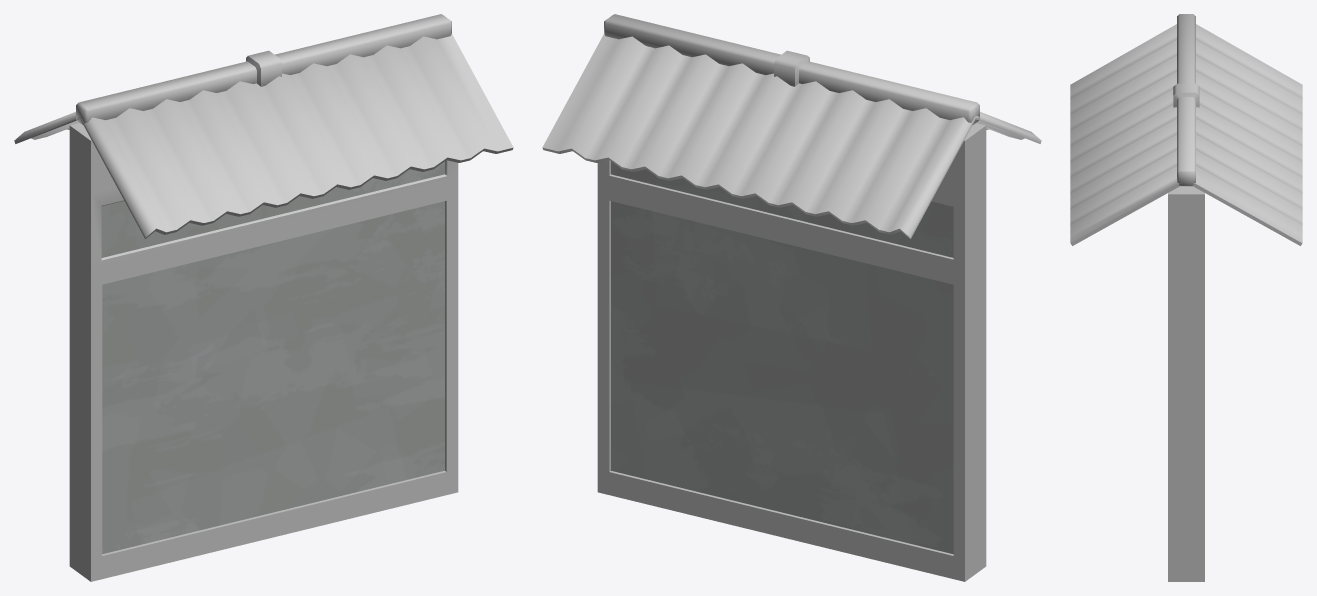
The model's file is Japan.Temple.Wall_02.fbx.
3 renders of one model, left to right at view 1: azimuth 30°, elevation 25°; view 2: azimuth 150°, elevation 25°; view 3: azimuth 270°, elevation 25°, orthographic. The views are drawn at different scales.
Visible parts, largest first — view 1: Japan.Temple.Wall_02; view 2: Japan.Temple.Wall_02; view 3: Japan.Temple.Wall_02.
Boxes of the visible parts, x1,y1,x2,y2 form: Japan.Temple.Wall_02: [14, 14, 513, 581]; Japan.Temple.Wall_02: [542, 14, 1041, 581]; Japan.Temple.Wall_02: [1070, 14, 1302, 581].
Size of the model in its own units: 500 by 614 by 311.
